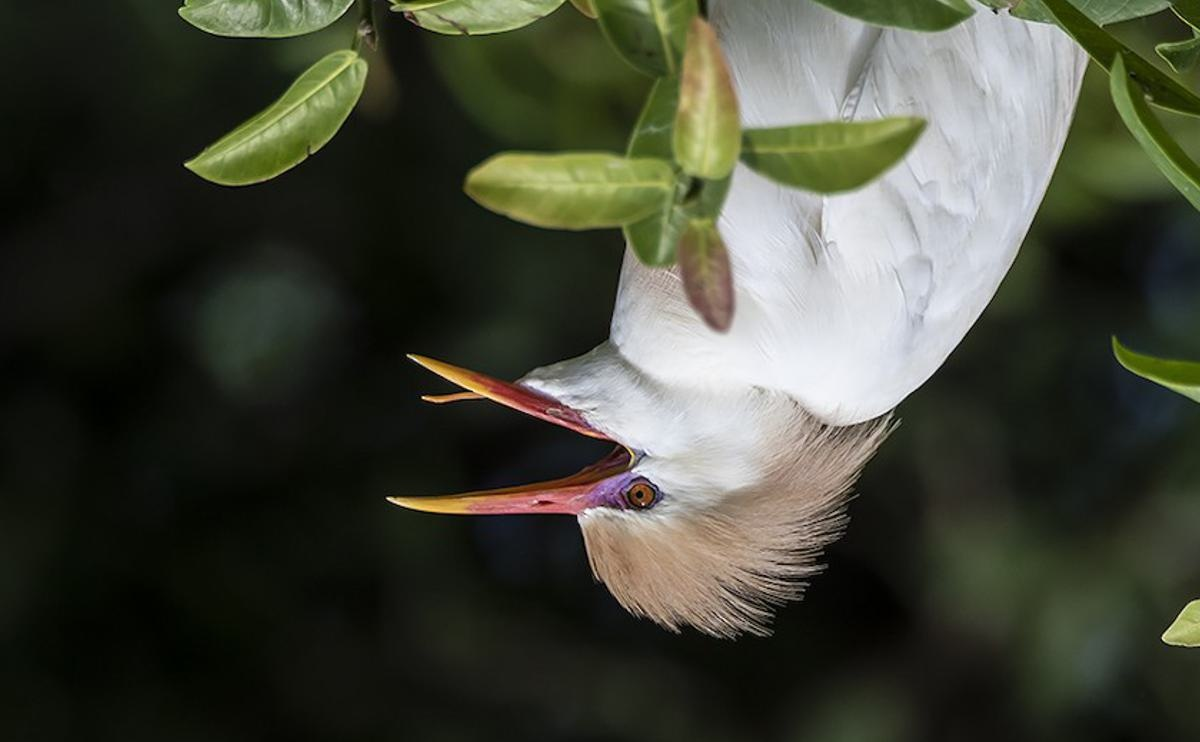egret: (377, 1, 1098, 651)
